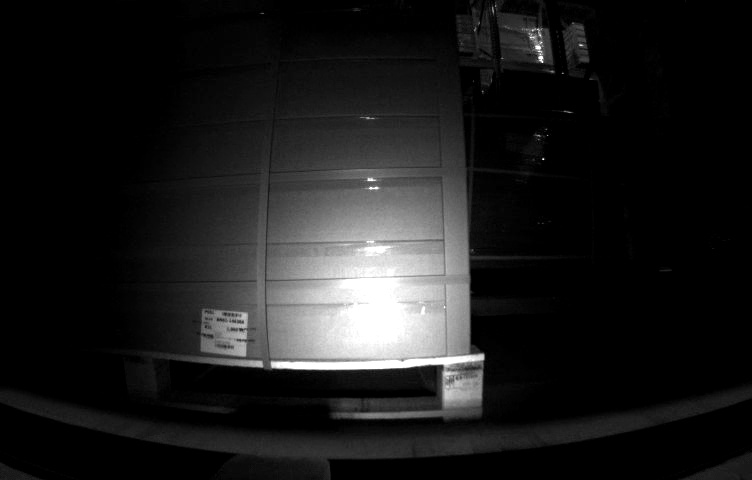True Barcode: (200, 306, 246, 358)
